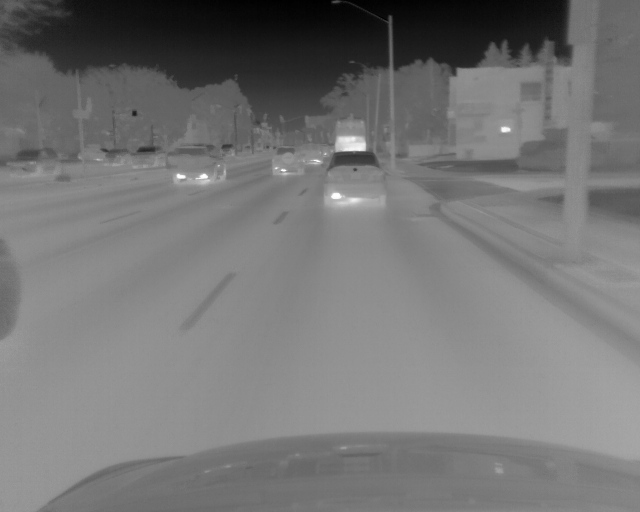car: (322, 153, 385, 210), (170, 144, 227, 187), (5, 148, 61, 180), (332, 118, 368, 155), (270, 145, 304, 176), (129, 146, 164, 170), (77, 143, 108, 161), (103, 150, 129, 168), (301, 143, 322, 165), (220, 143, 235, 156), (320, 144, 332, 158)
